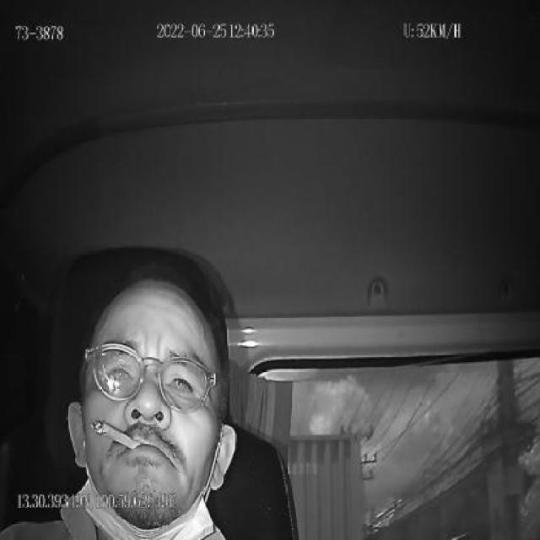smoking: (89, 418, 142, 452)
